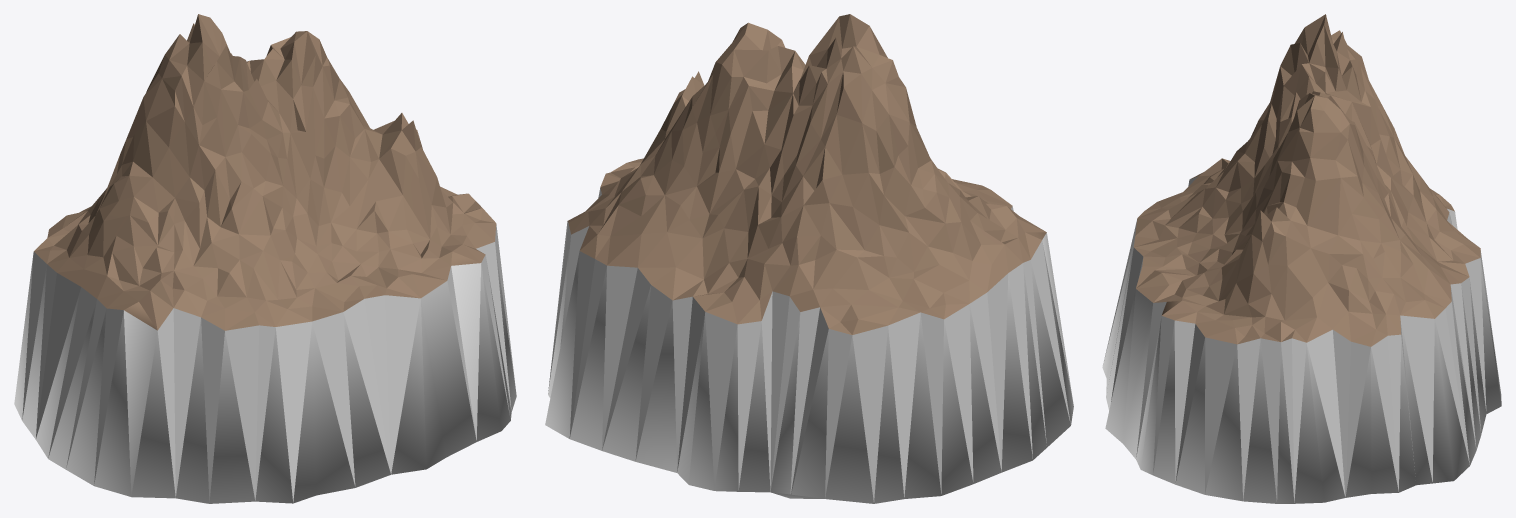
File: Mountain_02.fbx
The picture shows the model from 3 angles, left to right: view 1: azimuth 30°, elevation 25°; view 2: azimuth 150°, elevation 25°; view 3: azimuth 270°, elevation 25°; orthographic projection. The views are drawn at different scales.
Parts seen in each view (by area): view 1: Mountain_02; view 2: Mountain_02; view 3: Mountain_02.
Part boxes in pixels (bbox=[...]): Mountain_02: bbox=[14, 14, 516, 503]; Mountain_02: bbox=[545, 14, 1073, 503]; Mountain_02: bbox=[1102, 14, 1501, 503].
Size of the model in its own units: 12851 by 11152 by 10973.
